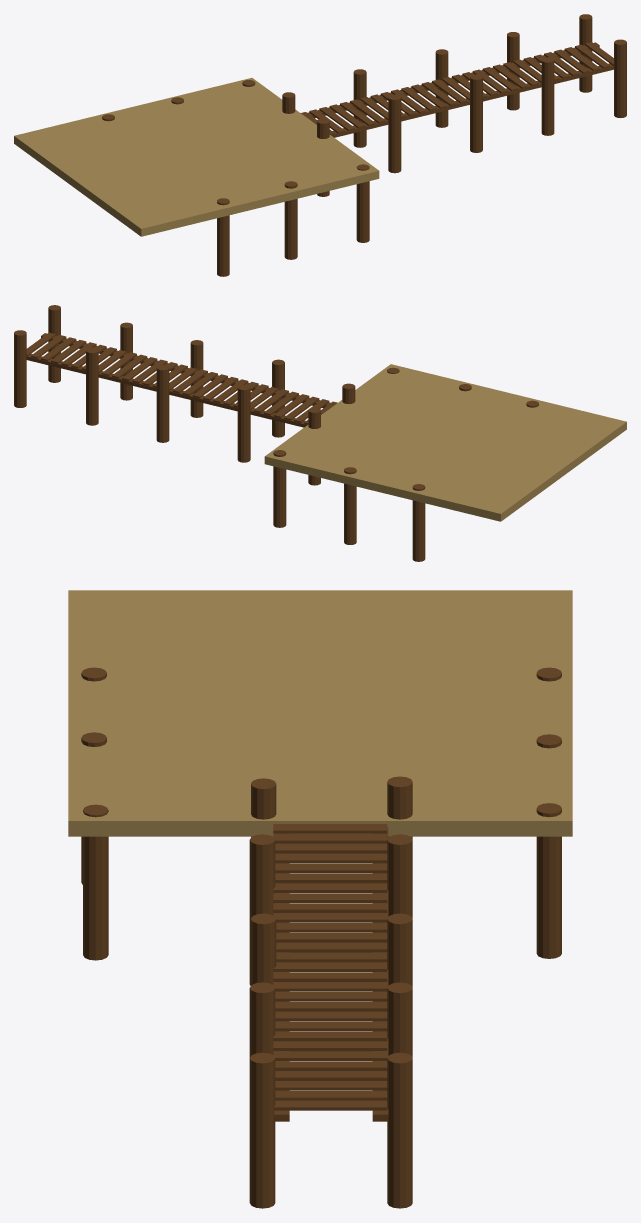
File: Пристань.fbx
3 views of the same model, one above another, from view 1: azimuth 30°, elevation 25°; view 2: azimuth 150°, elevation 25°; view 3: azimuth 270°, elevation 25° (orthographic). The views are drawn at different scales.
Parts seen in each view (by area): view 1: Пристань; view 2: Пристань; view 3: Пристань.
Part boxes in pixels (x1,y1,x2,y2): Пристань: (14, 14, 626, 276); Пристань: (14, 305, 626, 561); Пристань: (68, 590, 572, 1208).
Size of the model in its own units: 11534 by 1940 by 4748.
